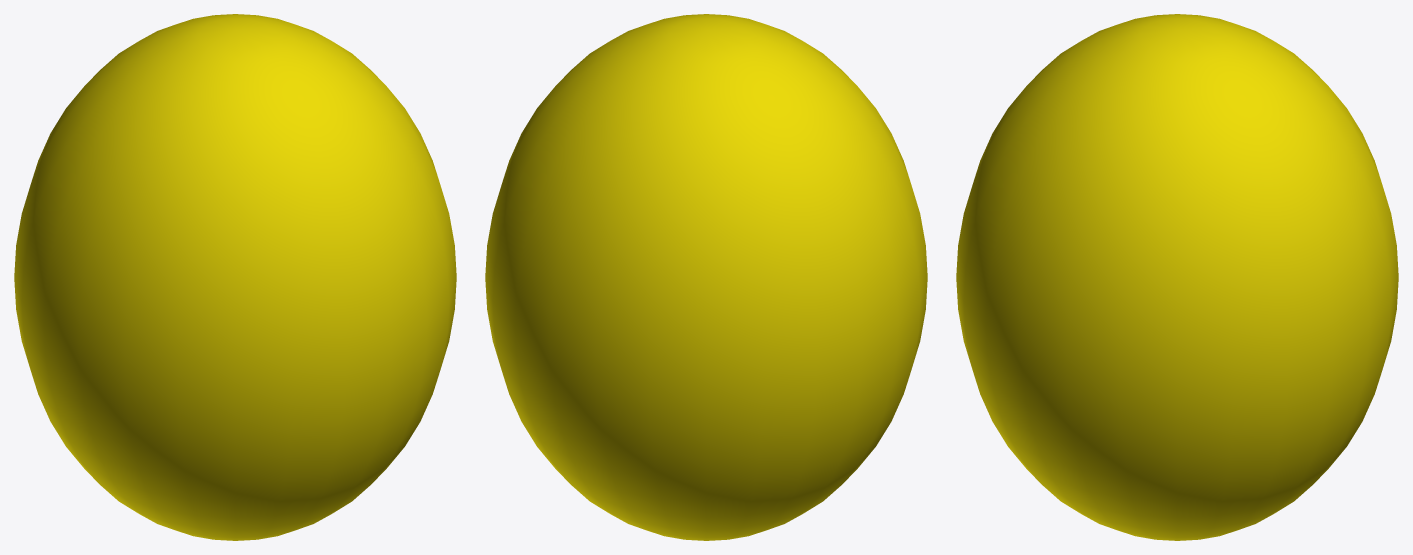
File: Egg.fbx
3 views of the same model, side by side, from view 1: azimuth 30°, elevation 25°; view 2: azimuth 150°, elevation 25°; view 3: azimuth 270°, elevation 25° (orthographic).
Parts seen in each view (by area): view 1: Egg; view 2: Egg; view 3: Egg.
Boxes of the visible parts, box(x1,y1,x2,y2) form: Egg: box(14, 14, 456, 540); Egg: box(485, 14, 927, 540); Egg: box(956, 14, 1398, 540).
Size of the model in its own units: 31.03 by 38.29 by 31.03.
